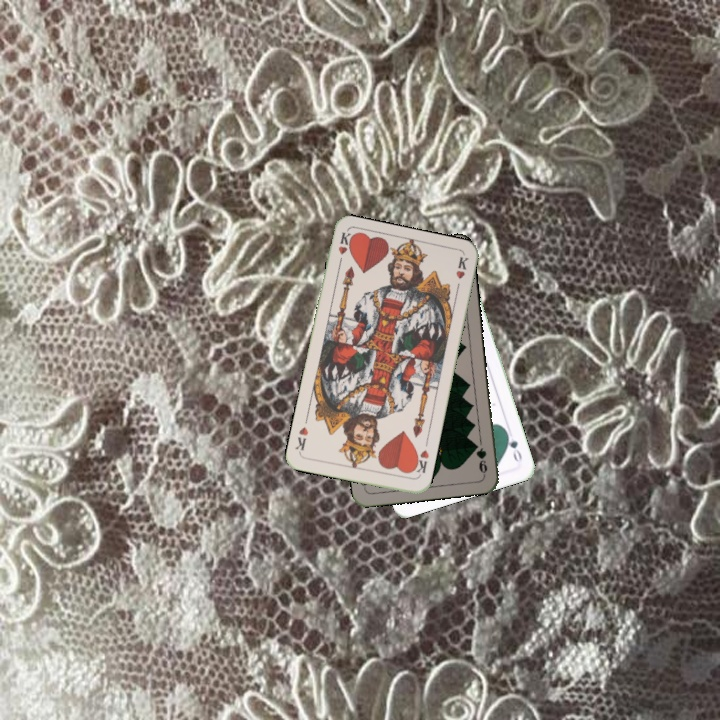G9: (472, 444, 490, 477)
GO: (502, 427, 525, 465)
HK: (334, 229, 355, 270), (409, 446, 432, 479)
